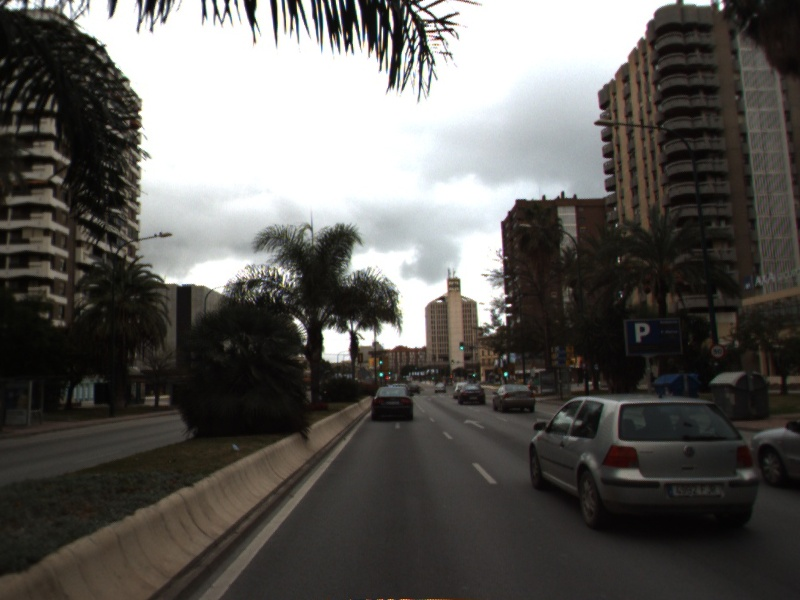STRAIGHT: (461, 417, 488, 431)
